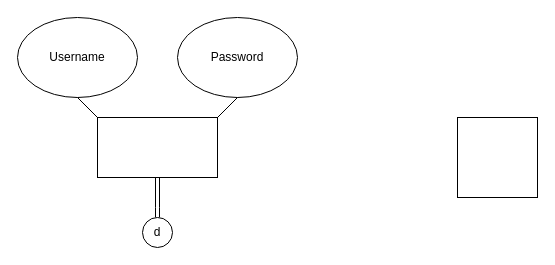
Image size: 555x265. Some labels were removed from this diagram. The centre of each missing label's shape, as x and y in pixels:
"Hello World!" goes at pixel 497 157.
"User" goes at pixel 157 147.
